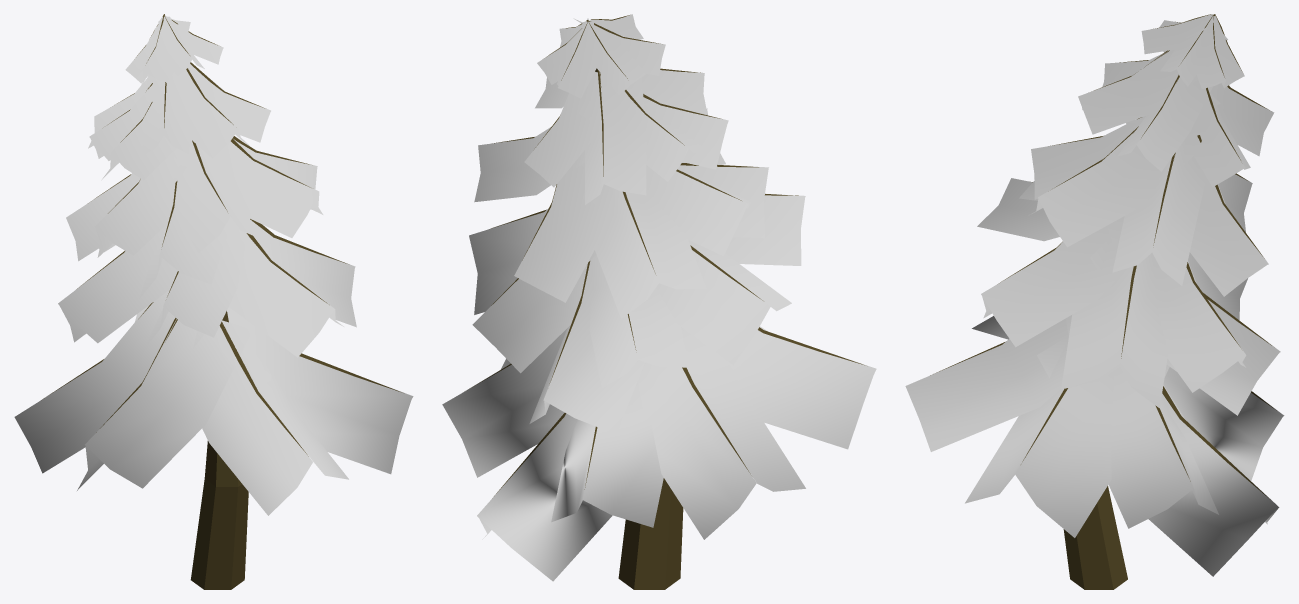
The model's file is pine_Tree4.fbx.
The picture shows the model from 3 angles, left to right: view 1: azimuth 30°, elevation 25°; view 2: azimuth 150°, elevation 25°; view 3: azimuth 270°, elevation 25°; orthographic projection. The views are drawn at different scales.
Parts seen in each view (by area): view 1: Cylinder.003, Cylinder.002; view 2: Cylinder.003, Cylinder.002; view 3: Cylinder.003, Cylinder.002.
Part boxes in pixels (x1,y1,x2,y2): Cylinder.003: [14, 14, 413, 515]; Cylinder.002: [190, 311, 248, 589]; Cylinder.003: [442, 14, 876, 581]; Cylinder.002: [595, 68, 683, 589]; Cylinder.003: [905, 14, 1284, 576]; Cylinder.002: [1063, 486, 1127, 589].
Size of the model in its own units: 842 by 1314 by 799.
